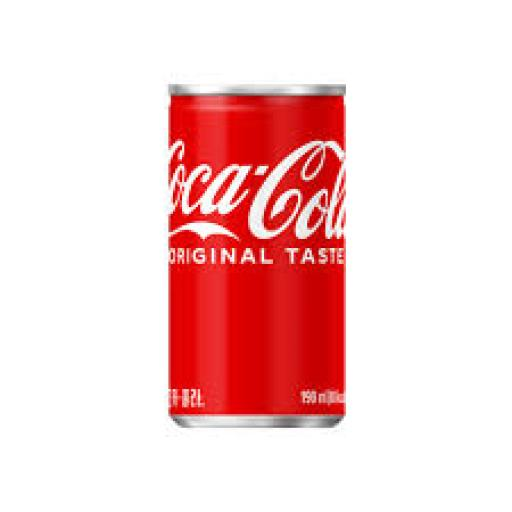Coca: (152, 80, 354, 440)
